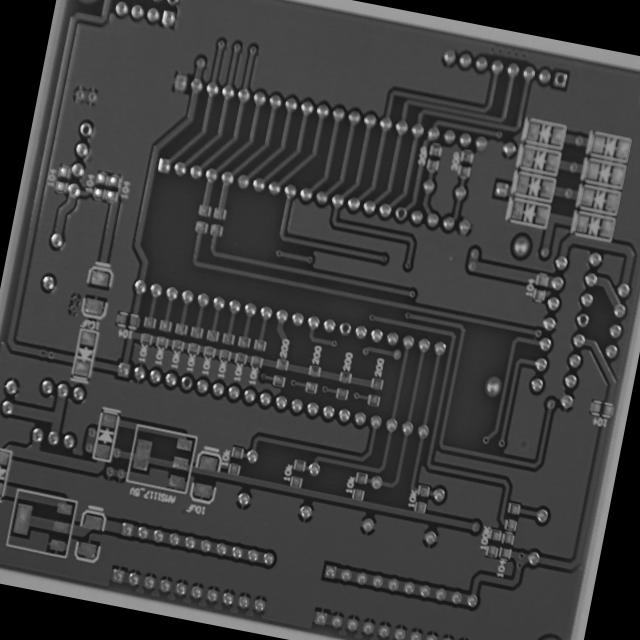missing_hole: (391, 202, 410, 226), (573, 310, 593, 330), (76, 120, 95, 139), (552, 70, 570, 90), (338, 317, 353, 338), (179, 373, 195, 392)
